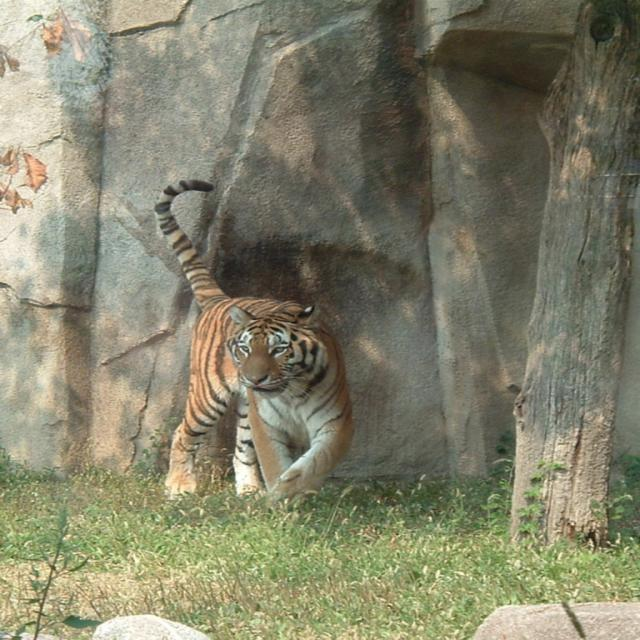Tiger: (152, 178, 355, 496)
